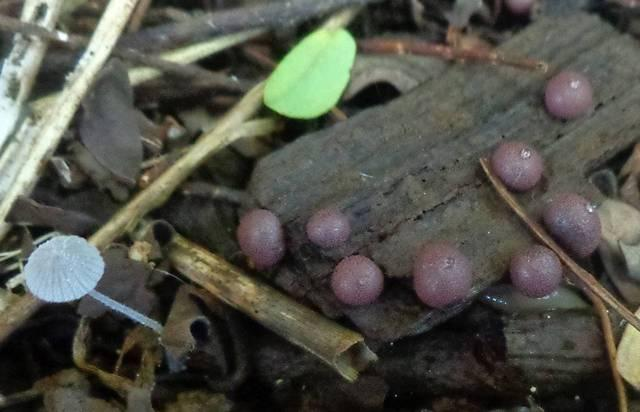Non-edible Mushroom: (21, 233, 163, 335), (21, 233, 105, 304), (411, 240, 474, 309), (541, 191, 602, 257), (235, 207, 286, 268), (508, 243, 563, 298), (329, 253, 384, 306), (489, 139, 544, 191), (543, 68, 593, 119), (305, 205, 351, 248)
